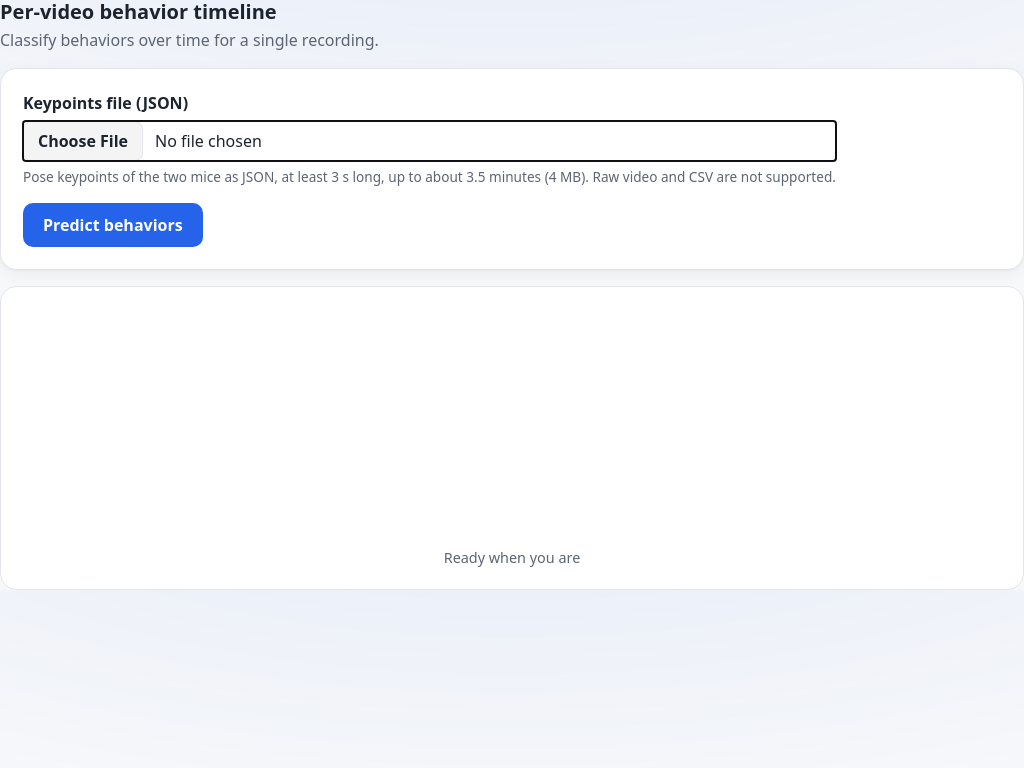
Scenario: TimelineView › shows the backend error when prediction fails
This screenshot has width=1024, height=768.
Earlier steps of the test are not shown.
Click the button "Predict behaviors" at [113, 225], box [23,203,203,247]
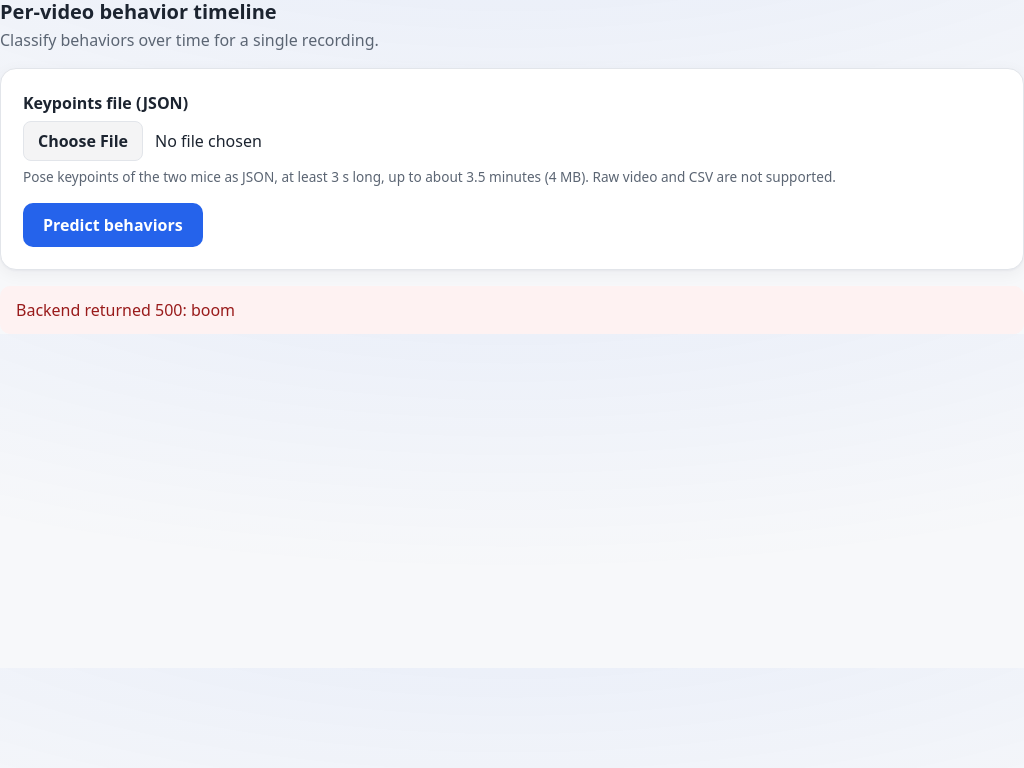
expect the message reads "Backend returned 500: boom": met, box [16,299,235,321]
